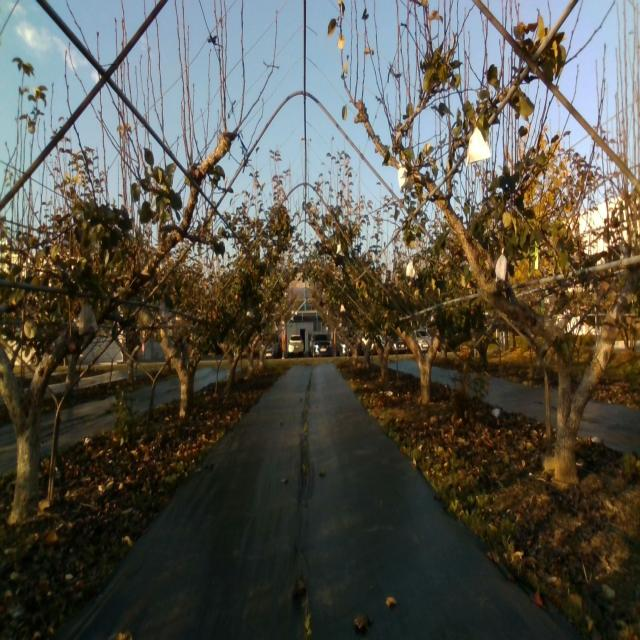pearbags: (466, 127, 491, 167), (78, 303, 98, 336), (495, 247, 508, 282), (398, 162, 413, 190), (406, 260, 418, 279), (159, 303, 169, 322)
